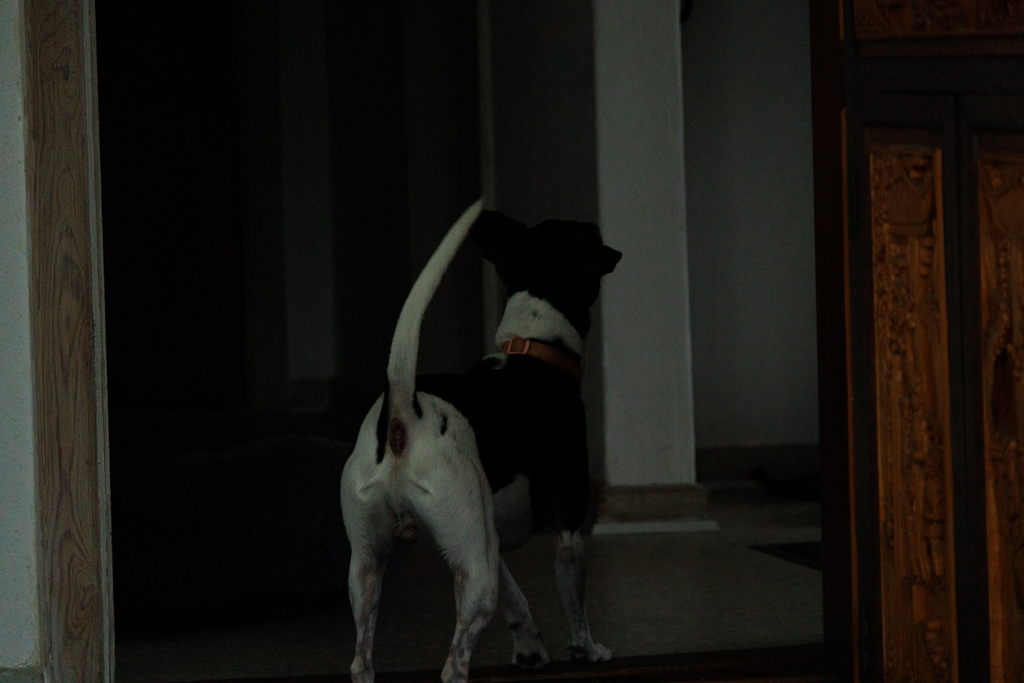Dog: (330, 184, 632, 683)
